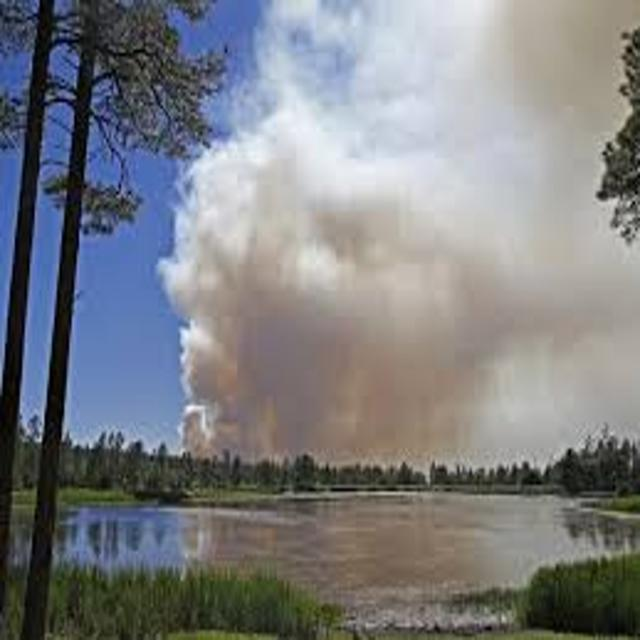Smoke: (162, 97, 640, 472), (256, 0, 640, 101)
